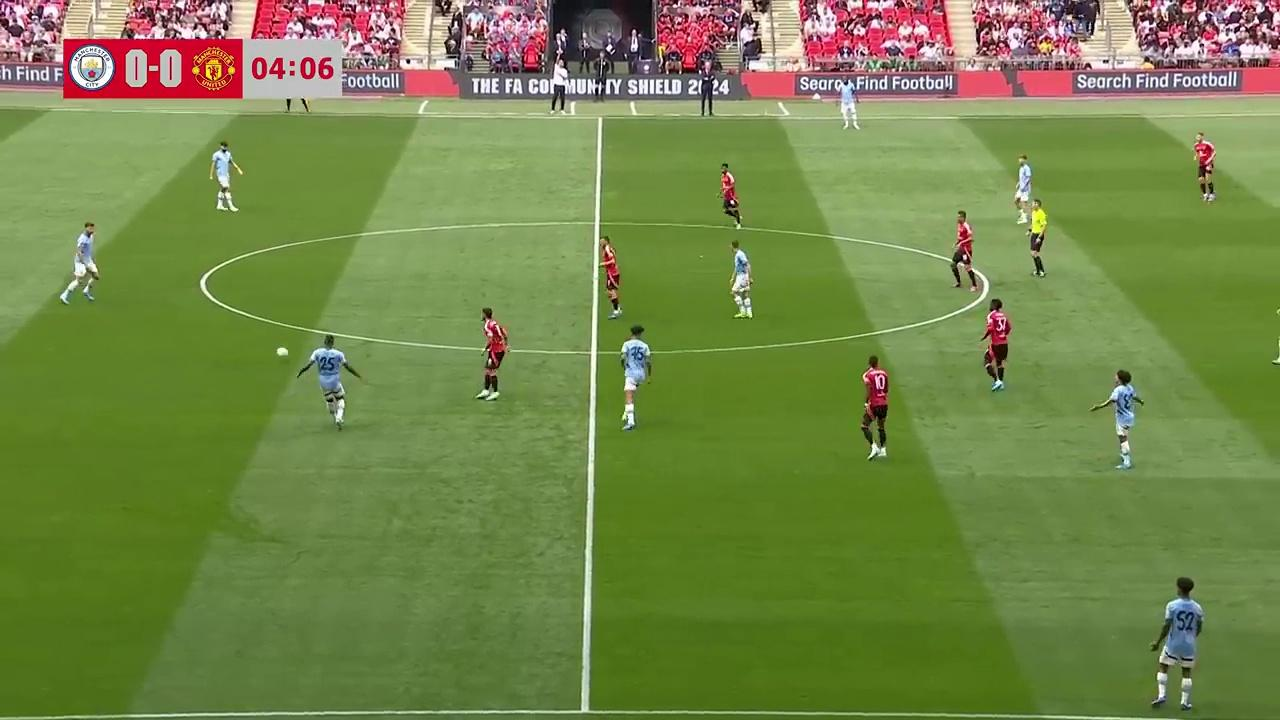ball: (274, 344, 290, 358)
player: (1148, 577, 1204, 709), (296, 333, 359, 428), (1091, 369, 1144, 469), (618, 324, 652, 431), (60, 221, 99, 305), (860, 355, 889, 460), (980, 299, 1011, 391), (477, 308, 508, 400), (209, 140, 243, 212), (950, 219, 982, 293), (729, 240, 754, 319), (1192, 132, 1216, 204), (601, 237, 622, 317), (717, 163, 742, 228), (836, 68, 860, 130), (1013, 154, 1033, 222), (1270, 297, 1280, 373)
referee: (1027, 198, 1047, 277), (283, 84, 312, 115)
